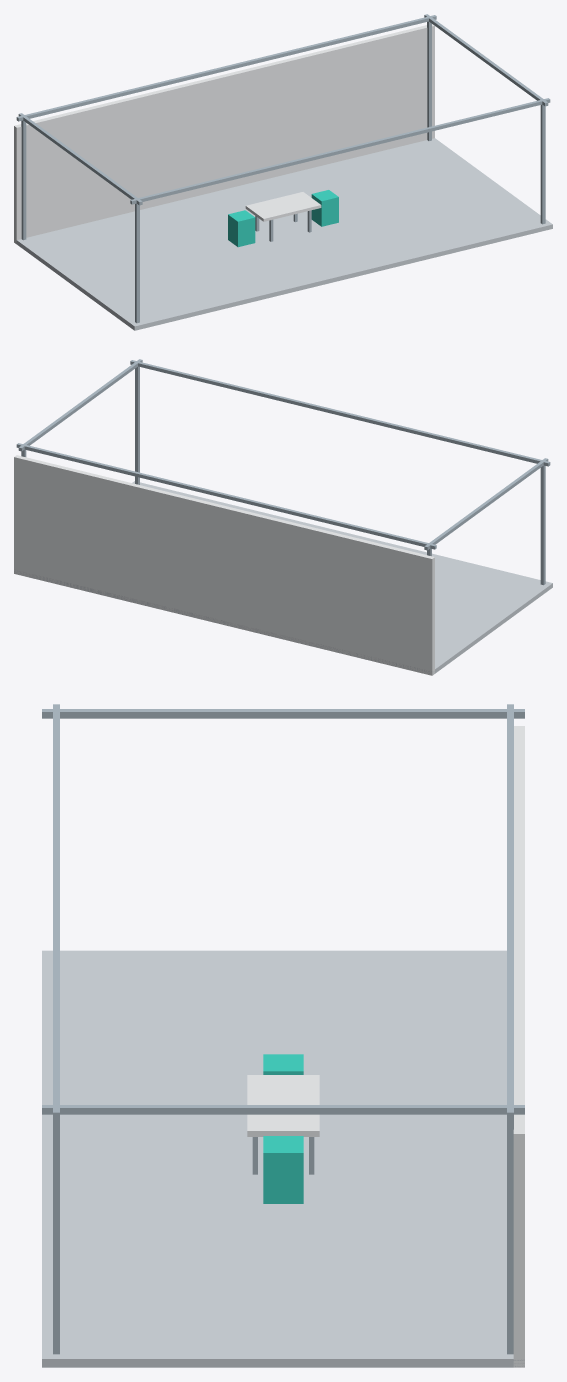
The picture shows the model from 3 angles, top to bottom: view 1: azimuth 30°, elevation 25°; view 2: azimuth 150°, elevation 25°; view 3: azimuth 270°, elevation 25°; orthographic projection. The views are drawn at different scales.
Visible parts, largest first — view 1: Exhibition Booth Concept; view 2: Exhibition Booth Concept; view 3: Exhibition Booth Concept.
Boxes of the visible parts, x1,y1,x2,y2 form: Exhibition Booth Concept: (14,14,552,330); Exhibition Booth Concept: (14,359,552,675); Exhibition Booth Concept: (42,704,524,1367).
Size of the model in its own units: 12 by 3.49 by 6.
